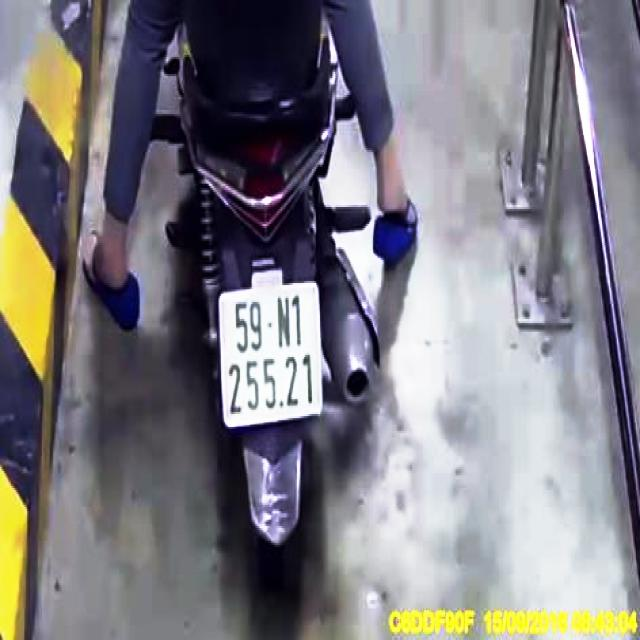license_plate: (224, 286, 322, 423)
